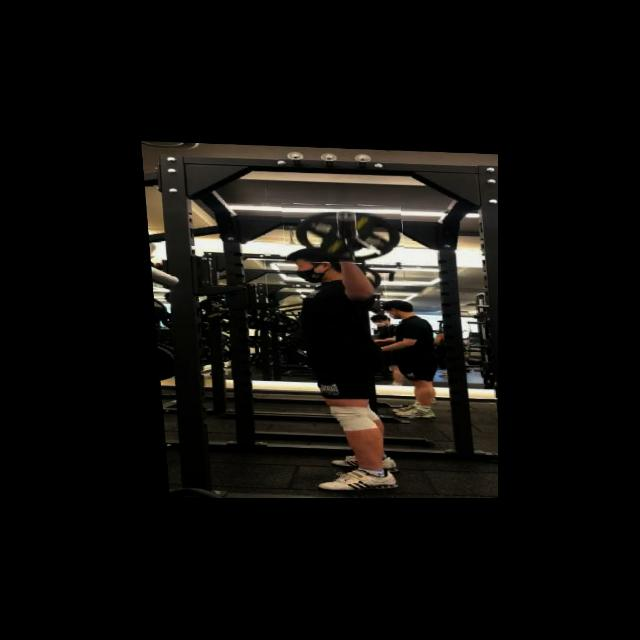barbell: (281, 201, 404, 264)
